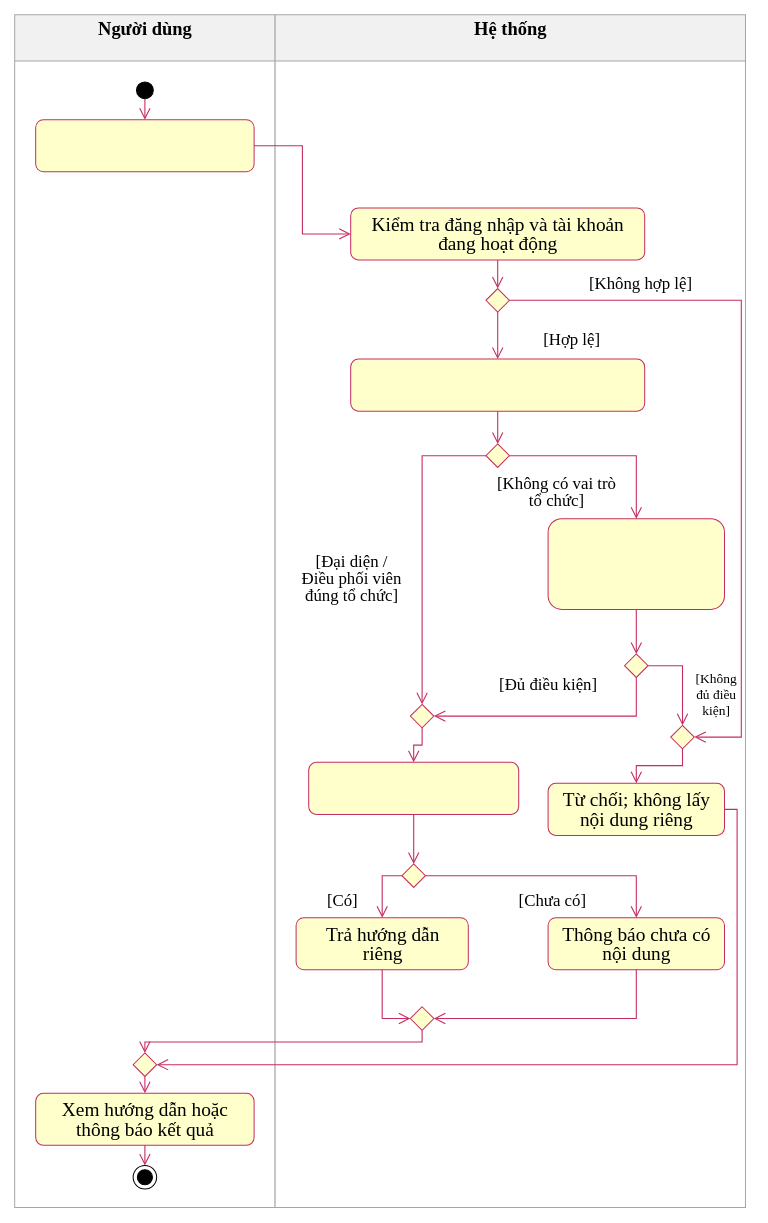
Image size: 768x1223. Some labels were removed from this diagram. The shapes that lost their labels are listed below. From the top down, each one's centre as x and y in pixels, then its label:
point (144, 145): Mở ca và yêu cầu xem thông tin điều phối riêng
point (497, 384): Kiểm tra vai trò còn hoạt động trong tổ chức sở hữu
point (636, 564): Kiểm tra đã phân công; ca chưa hủy, chưa qua giờ kết thúc
point (413, 787): Lấy hướng dẫn riêng theo mã nhu cầu
